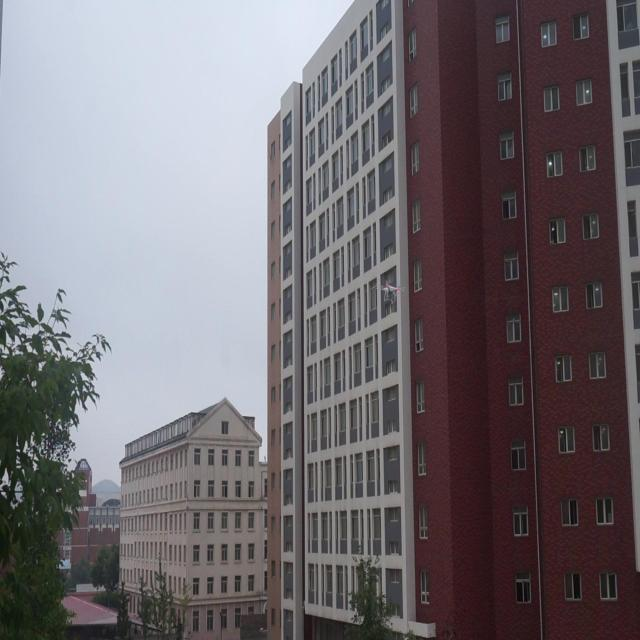drone: (376, 279, 404, 312)
